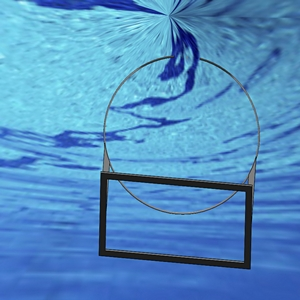circle: (97, 54, 260, 270)
